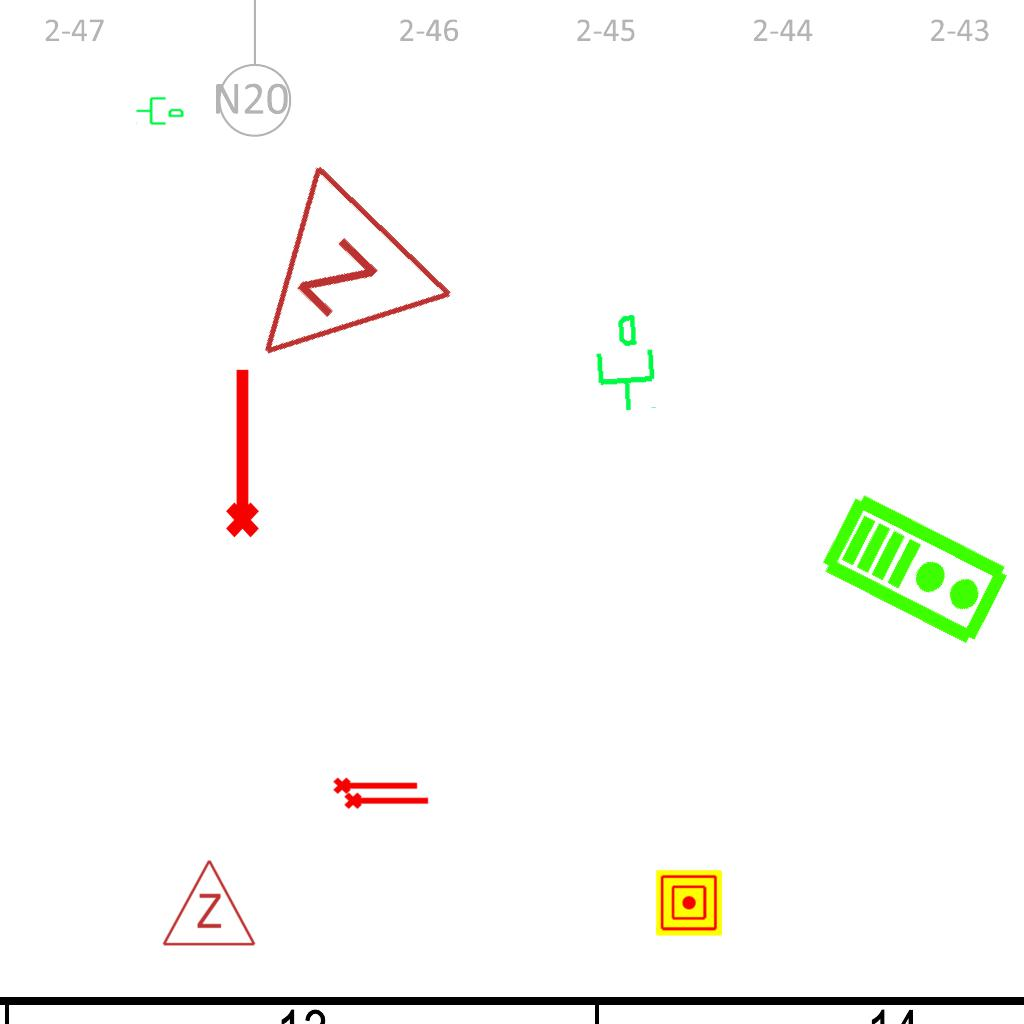ASR_Ansaugoeffnung: (217, 364, 263, 540), (332, 773, 420, 796), (343, 788, 431, 811)
Datenanschluss_einfach: (585, 310, 662, 416), (135, 93, 185, 127)
Gegensprechanlage_mit_Video: (816, 485, 1017, 651)
NAM-Nichtautomatischer_Melder: (656, 870, 722, 936)
Zimmersignalleuchte: (188, 151, 468, 433), (159, 853, 257, 953)
